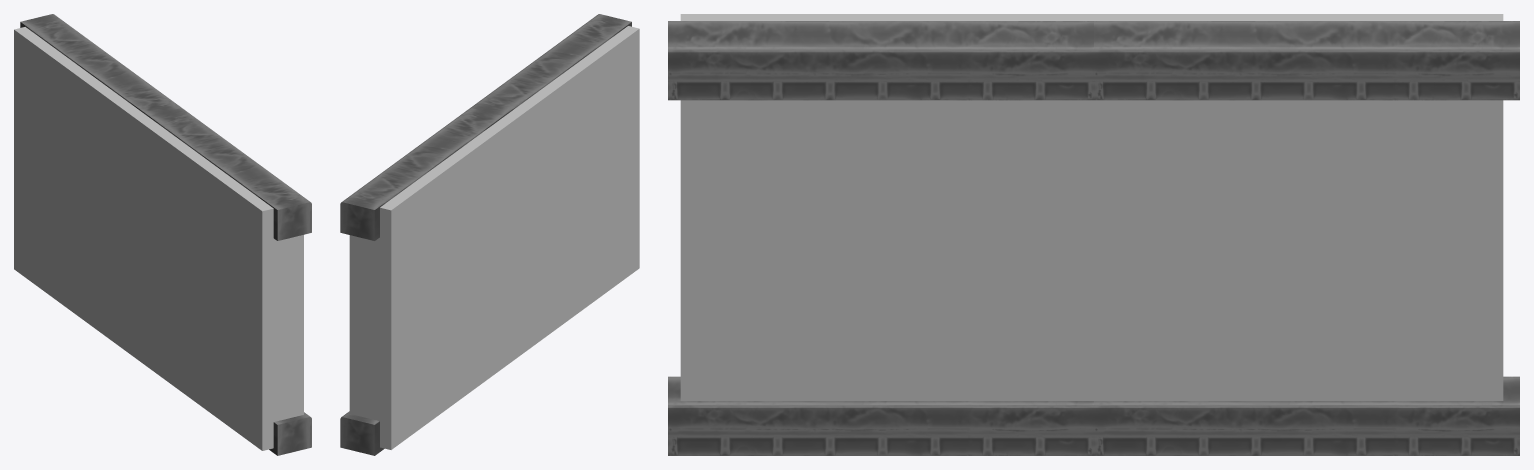
File: Building_Wall_07.fbx
The picture shows the model from 3 angles, left to right: view 1: azimuth 30°, elevation 25°; view 2: azimuth 150°, elevation 25°; view 3: azimuth 270°, elevation 25°; orthographic projection. The views are drawn at different scales.
Visible parts, largest first — view 1: BuildingWall3.006; view 2: BuildingWall3.006; view 3: BuildingWall3.006.
Part boxes in pixels (bbox=[...]): BuildingWall3.006: bbox=[14, 14, 311, 455]; BuildingWall3.006: bbox=[340, 14, 639, 455]; BuildingWall3.006: bbox=[668, 14, 1519, 455].
Bounding box in the file's own units: 266 × 1365 × 2590.
